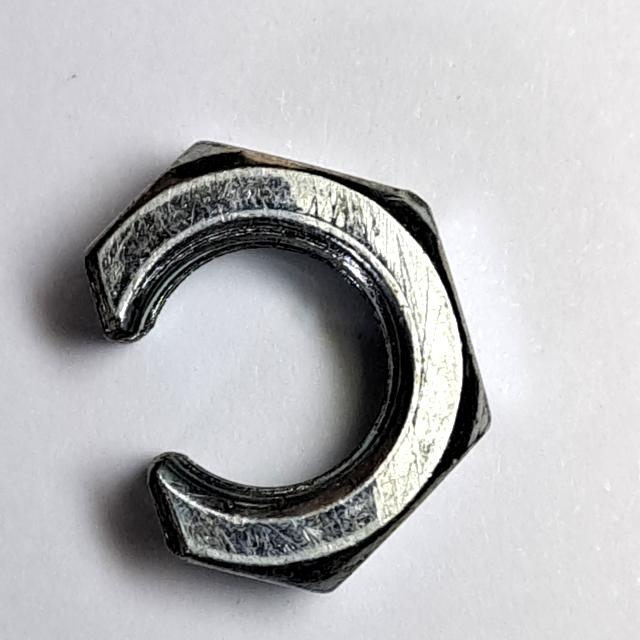Fracture: (66, 126, 503, 610)
